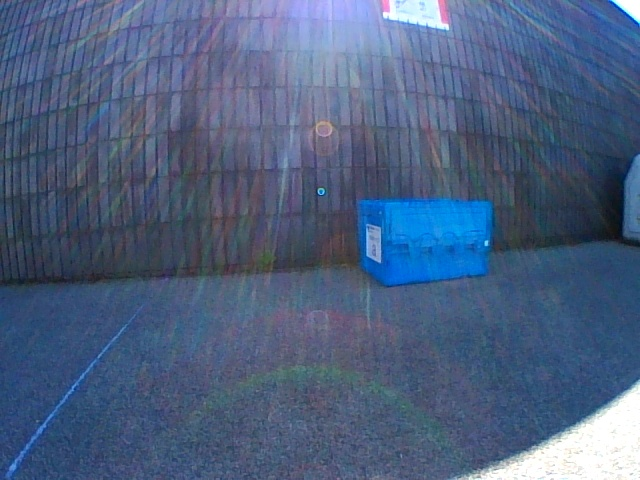blue_box: (357, 199, 492, 287)
tag_a: (367, 227, 379, 258)
